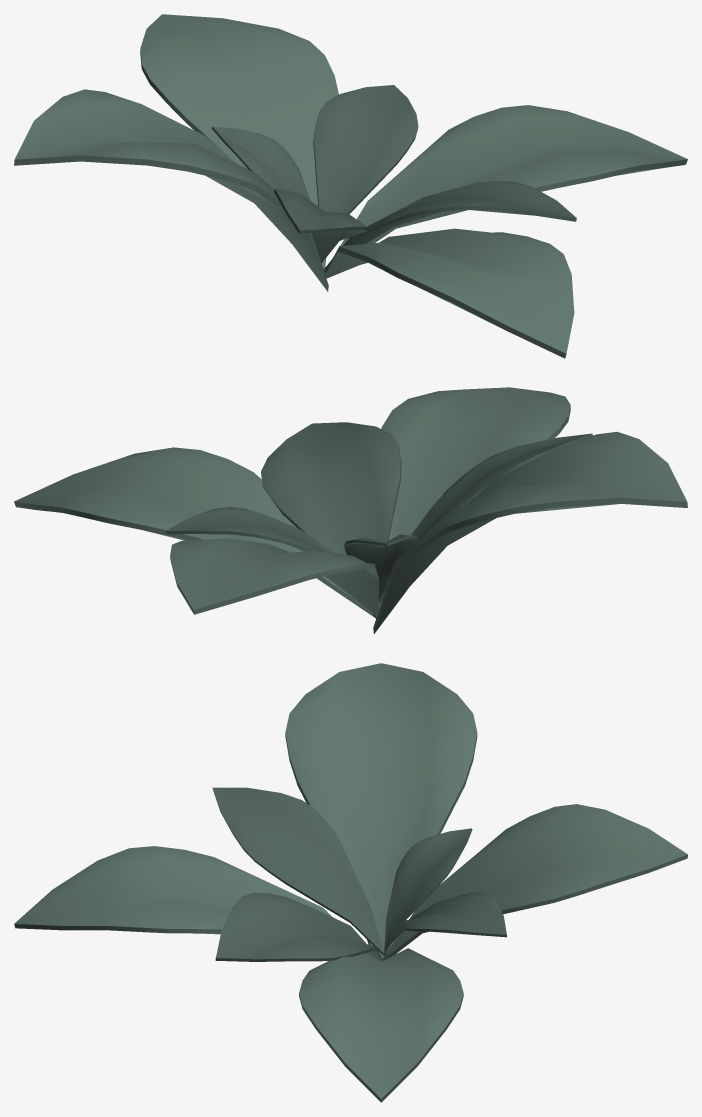
File: PulaPulaA.fbx
The picture shows the model from 3 angles, top to bottom: view 1: azimuth 30°, elevation 25°; view 2: azimuth 150°, elevation 25°; view 3: azimuth 270°, elevation 25°; orthographic projection. The views are drawn at different scales.
Parts seen in each view (by area): view 1: PulaPulaA; view 2: PulaPulaA; view 3: PulaPulaA.
Boxes of the visible parts, box(x1,y1,x2,y2) form: PulaPulaA: box(14, 14, 687, 358); PulaPulaA: box(14, 387, 687, 633); PulaPulaA: box(14, 663, 687, 1102).
Bounding box in the file's own units: 4.79 × 1.51 × 4.69.
